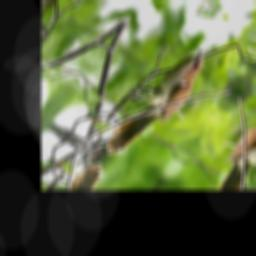Cuckoo: (86, 34, 220, 169)
